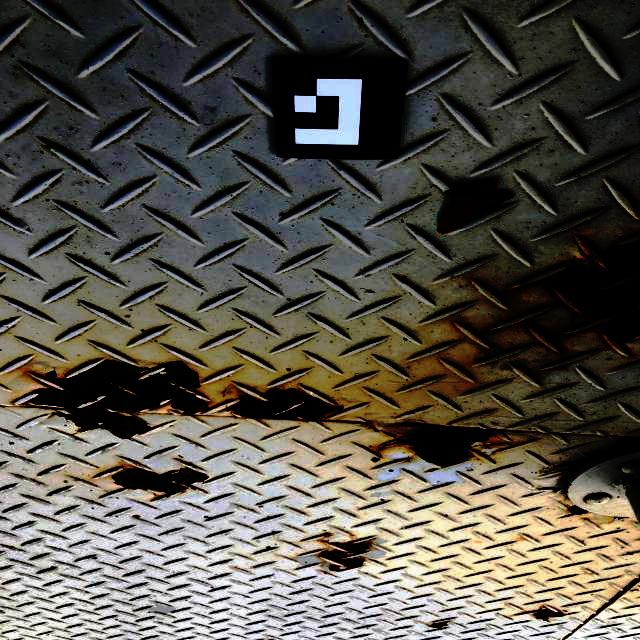Corrosion: (18, 359, 209, 442), (545, 238, 640, 342), (373, 422, 492, 467), (224, 386, 346, 422), (112, 468, 207, 495), (316, 533, 373, 572), (544, 456, 600, 473), (532, 607, 577, 623), (618, 436, 640, 451), (566, 505, 588, 515), (429, 620, 451, 629)
